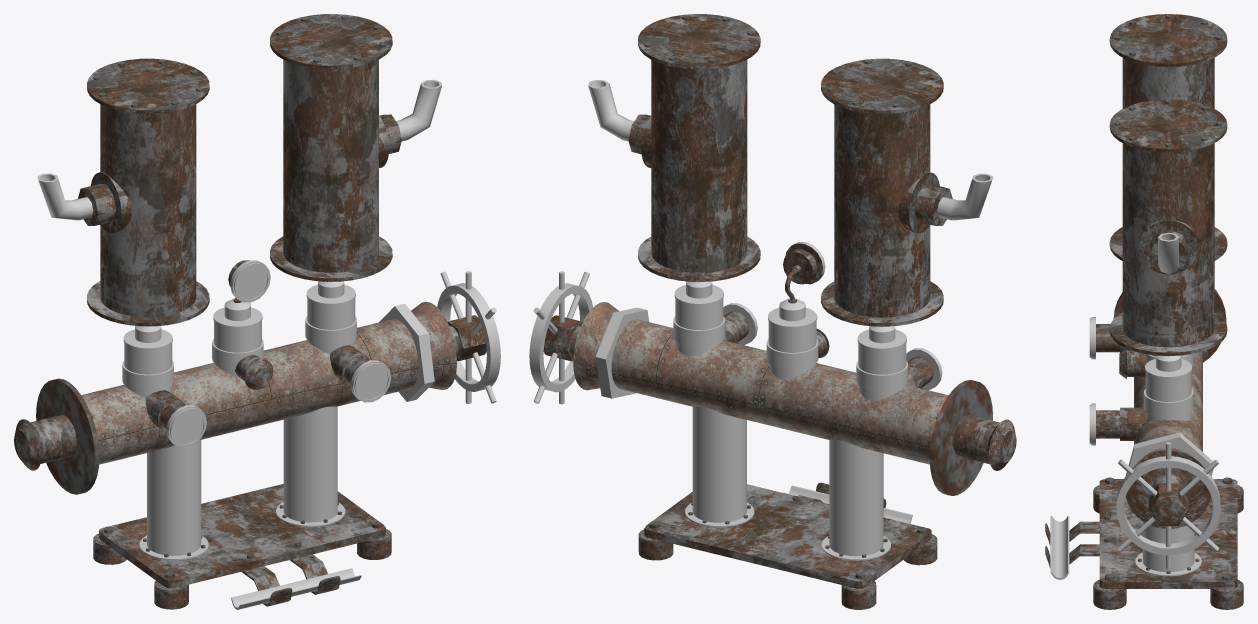
Rendered from 2_OilProduction_SteamOilPump.fbx.
3 views of the same model, side by side, from view 1: azimuth 30°, elevation 25°; view 2: azimuth 150°, elevation 25°; view 3: azimuth 270°, elevation 25° (orthographic). The views are drawn at different scales.
Parts seen in each view (by area): view 1: 2, 11, 4, 1, 12, 10, 25, 19, 3, 20, 26, 30 (+8 smaller); view 2: 2, 11, 4, 1, 12, 10, 19, 3, 20, 26, 30, 25 (+6 smaller); view 3: 2, 4, 1, 19, 11, 10, 25, 32, 12, 3, 5, 14 (+5 smaller).
Part boxes in pixels (bbox=[...]): 2: bbox=[100, 59, 378, 317]; 11: bbox=[81, 301, 460, 464]; 4: bbox=[87, 14, 392, 326]; 1: bbox=[99, 484, 385, 588]; 12: bbox=[147, 406, 337, 555]; 10: bbox=[122, 281, 356, 397]; 25: bbox=[145, 345, 391, 447]; 19: bbox=[437, 271, 500, 403]; 3: bbox=[37, 79, 441, 225]; 20: bbox=[36, 378, 99, 494]; 26: bbox=[212, 298, 263, 377]; 30: bbox=[14, 414, 76, 470]; 2: bbox=[651, 60, 930, 317]; 11: bbox=[569, 302, 948, 464]; 4: bbox=[638, 14, 943, 326]; 1: bbox=[644, 484, 931, 588]; 12: bbox=[692, 406, 883, 556]; 10: bbox=[673, 281, 908, 400]; 19: bbox=[529, 271, 592, 404]; 3: bbox=[588, 80, 993, 225]; 20: bbox=[929, 380, 992, 495]; 26: bbox=[766, 298, 818, 378]; 30: bbox=[953, 415, 1016, 470]; 25: bbox=[723, 303, 942, 390]; 2: bbox=[1122, 57, 1214, 347]; 4: bbox=[1109, 14, 1227, 355]; 1: bbox=[1099, 479, 1237, 588]; 19: bbox=[1116, 442, 1220, 569]; 11: bbox=[1126, 351, 1210, 528]; 10: bbox=[1143, 355, 1193, 420]; 25: bbox=[1089, 317, 1149, 445]; 32: bbox=[1093, 485, 1243, 609]; 12: bbox=[1142, 521, 1194, 571]; 3: bbox=[1148, 229, 1188, 274]; 5: bbox=[1138, 220, 1198, 274]; 14: bbox=[1125, 432, 1213, 475].
Size of the model in its own units: 736 by 288 by 759.
